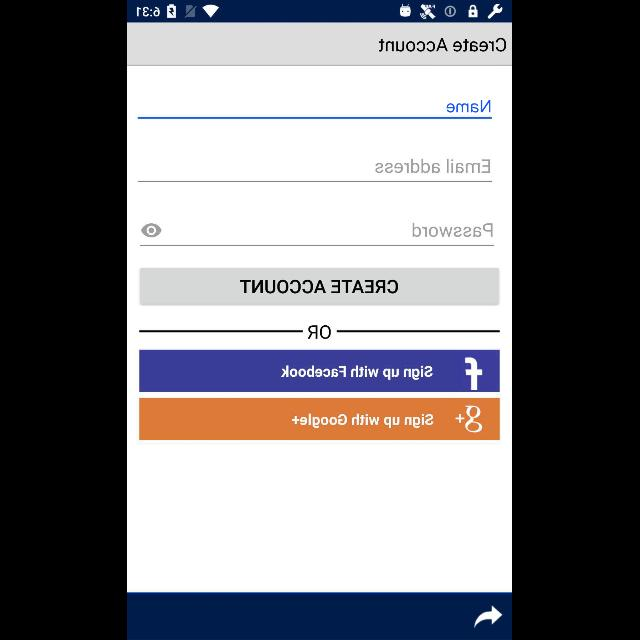icon: (475, 605, 503, 629), (142, 224, 162, 238)
input: (141, 222, 495, 245), (138, 160, 492, 182), (138, 100, 492, 120)
text: (379, 38, 507, 52), (376, 159, 490, 173), (413, 223, 493, 237), (447, 100, 491, 114), (308, 324, 332, 342)
textbutton: (140, 350, 500, 392), (140, 398, 500, 440), (140, 268, 500, 306)
toolbar: (129, 23, 513, 66)
uppertaskbar: (128, 1, 512, 23)
